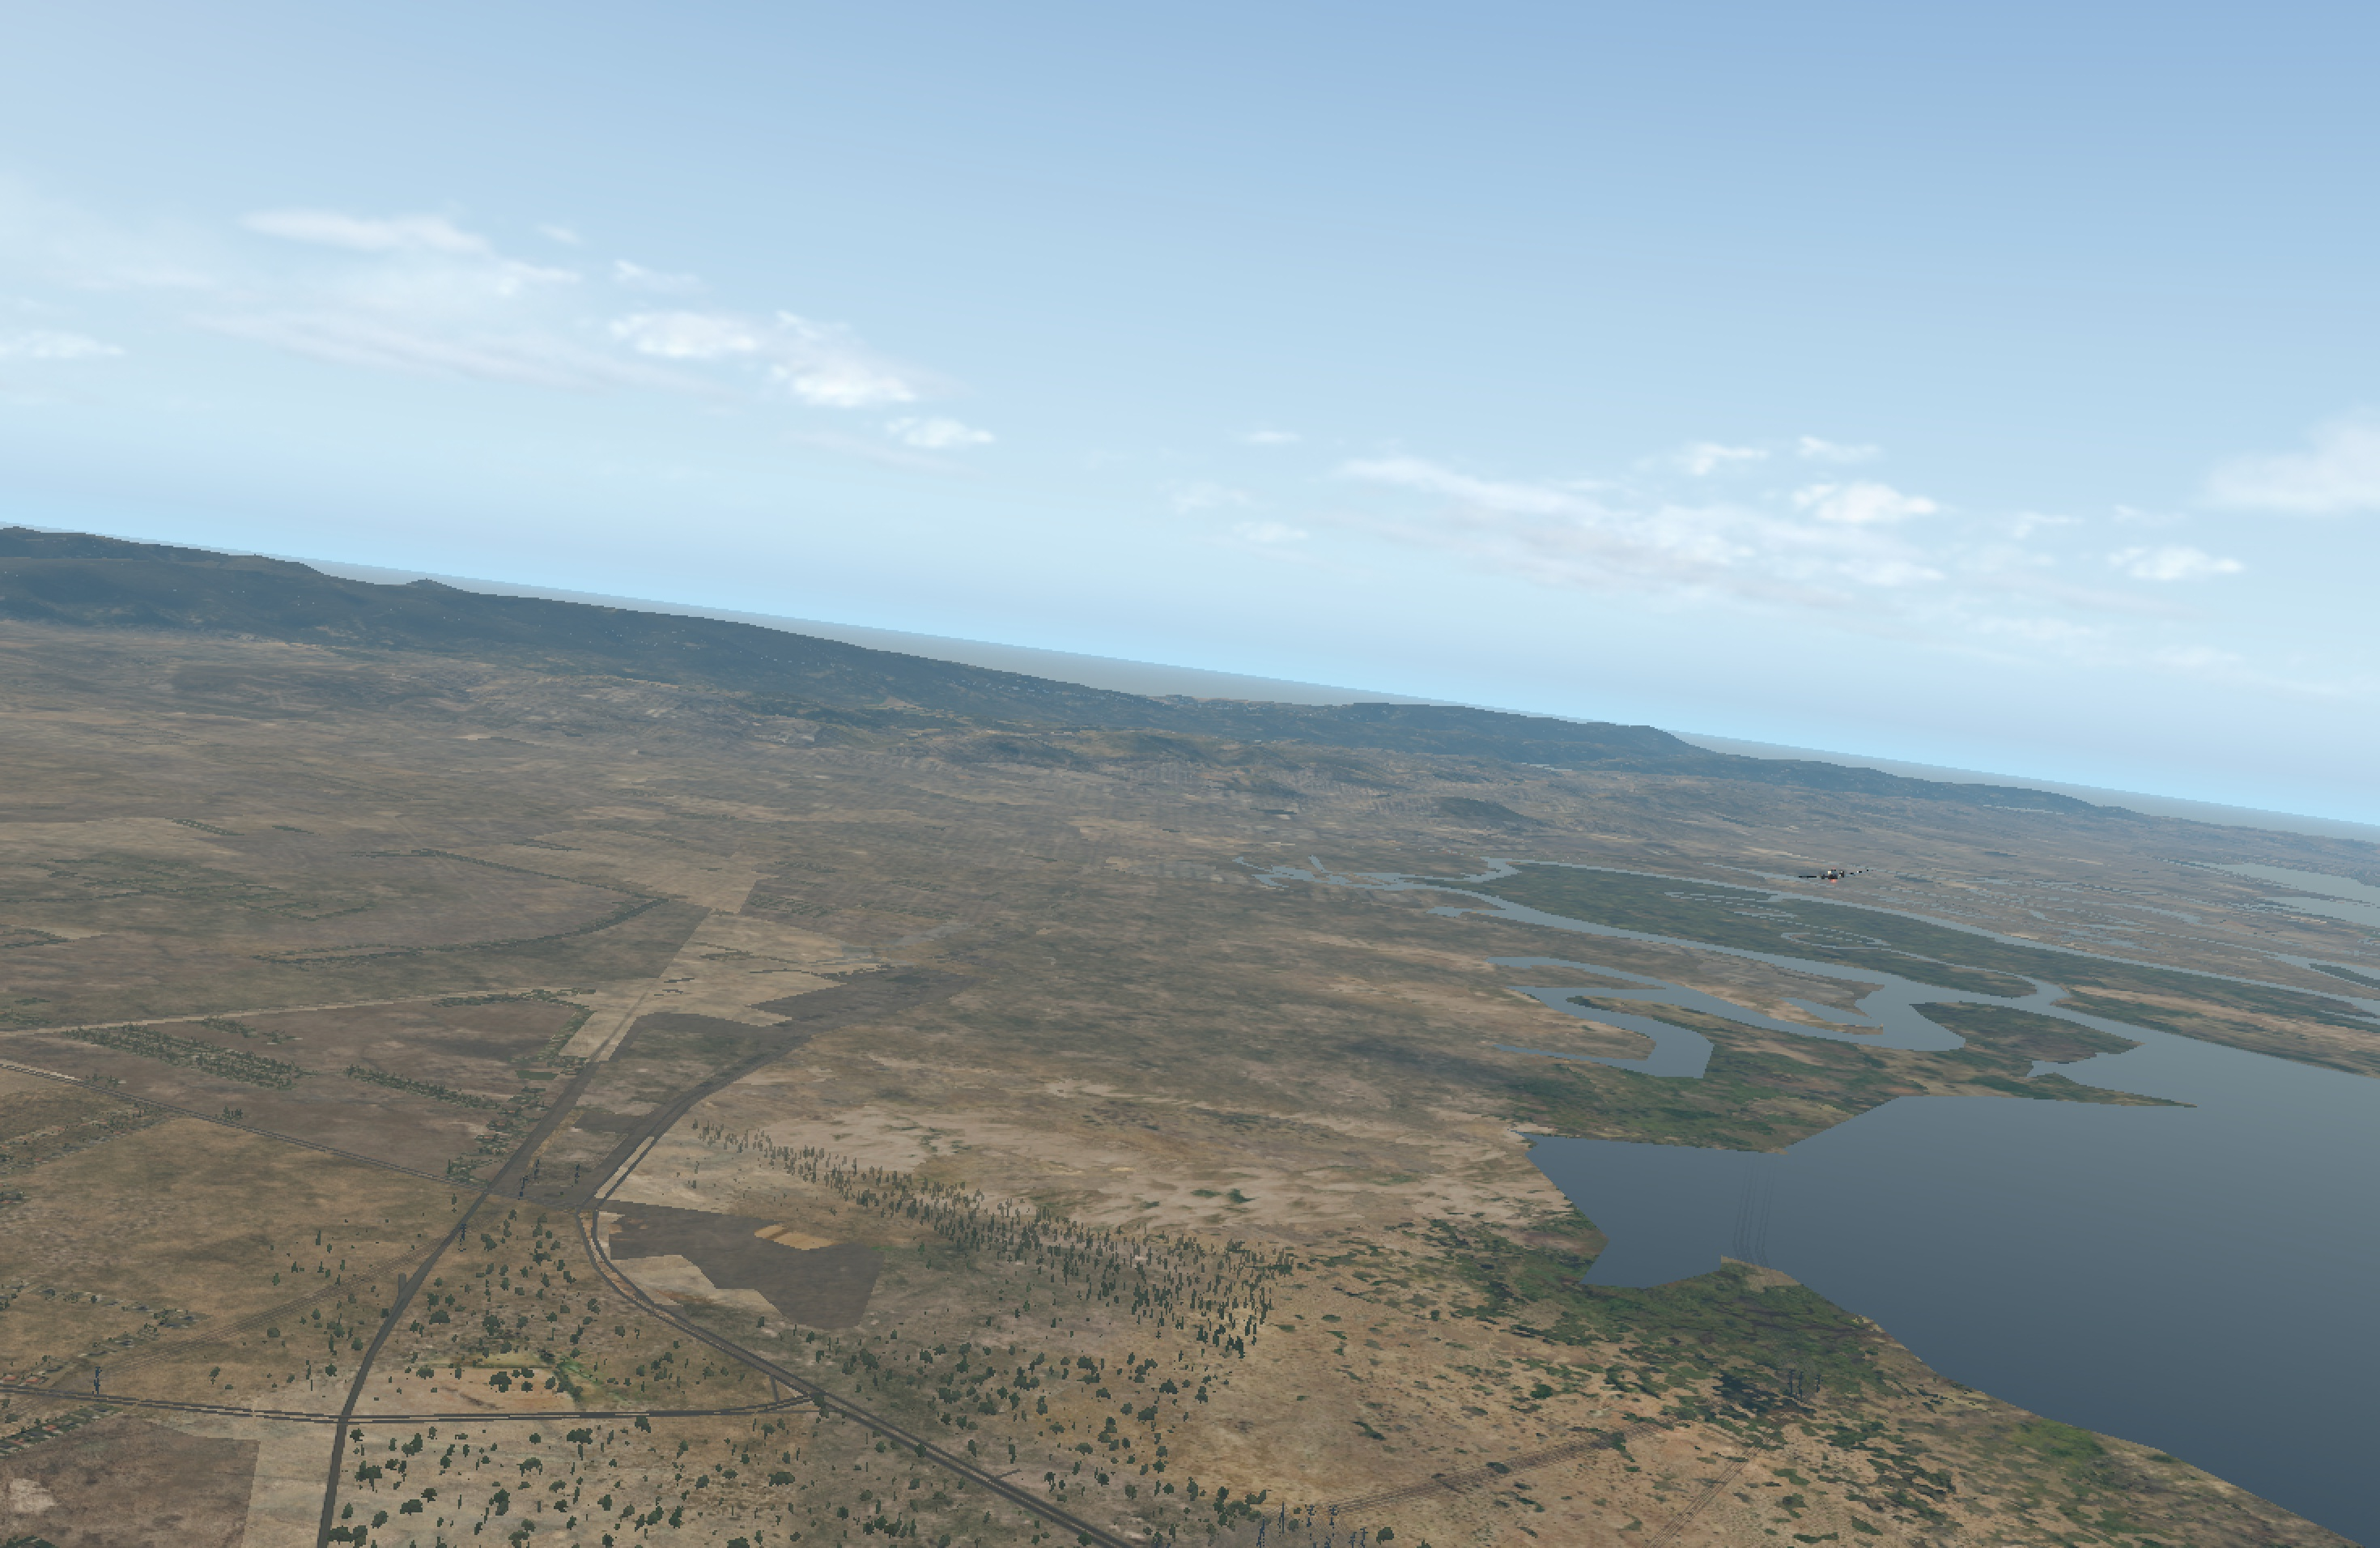aircraft: (1795, 864, 1870, 892)
